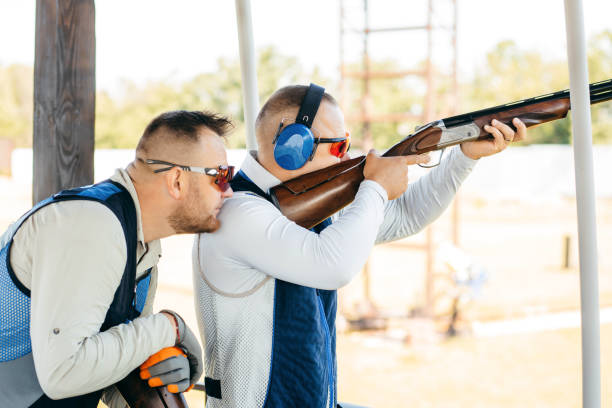gun: (265, 79, 612, 230)
